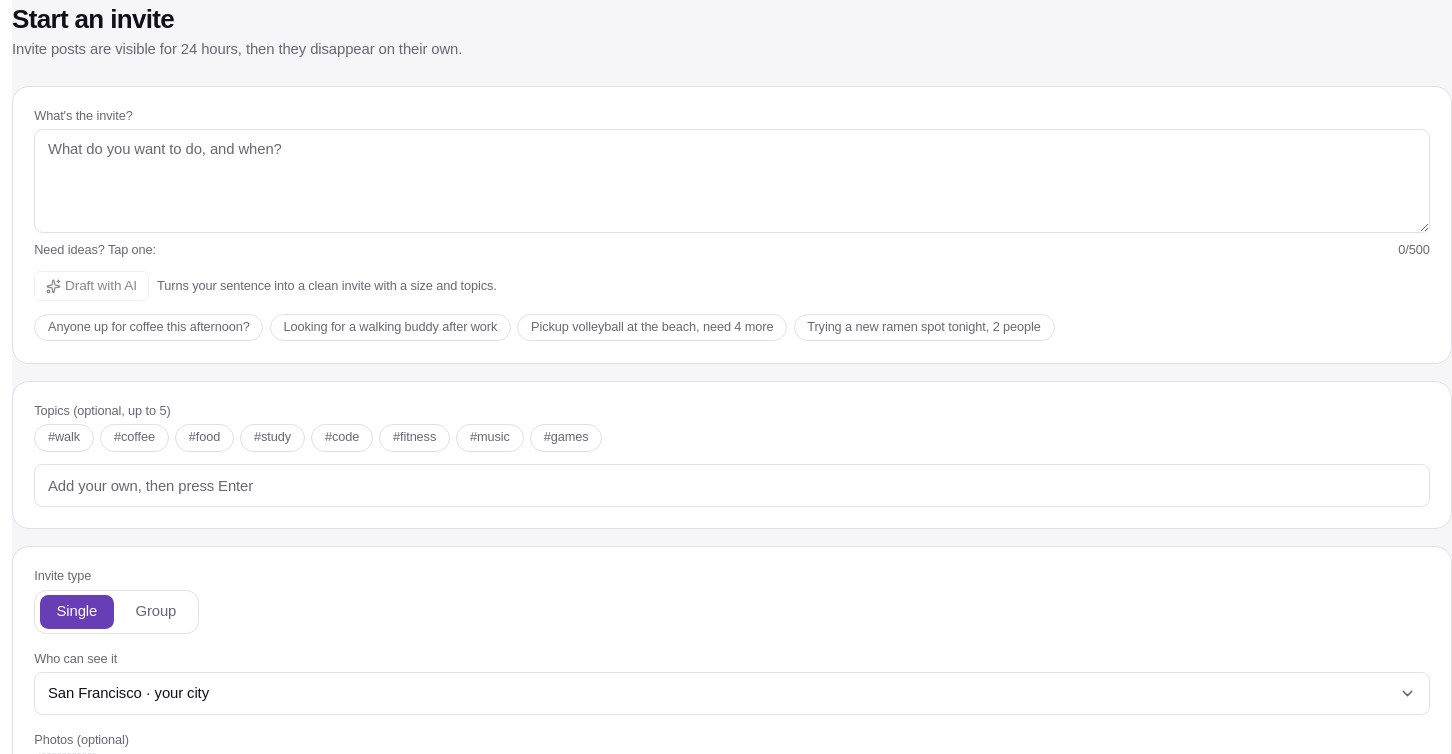
Test: NewPostPage › names the audience after the poster's place and hides State when there is none
The width and height of the screenshot is (1452, 754).
Click the dropdown named "Who can see it" at (128,693), box [34, 672, 1430, 715]
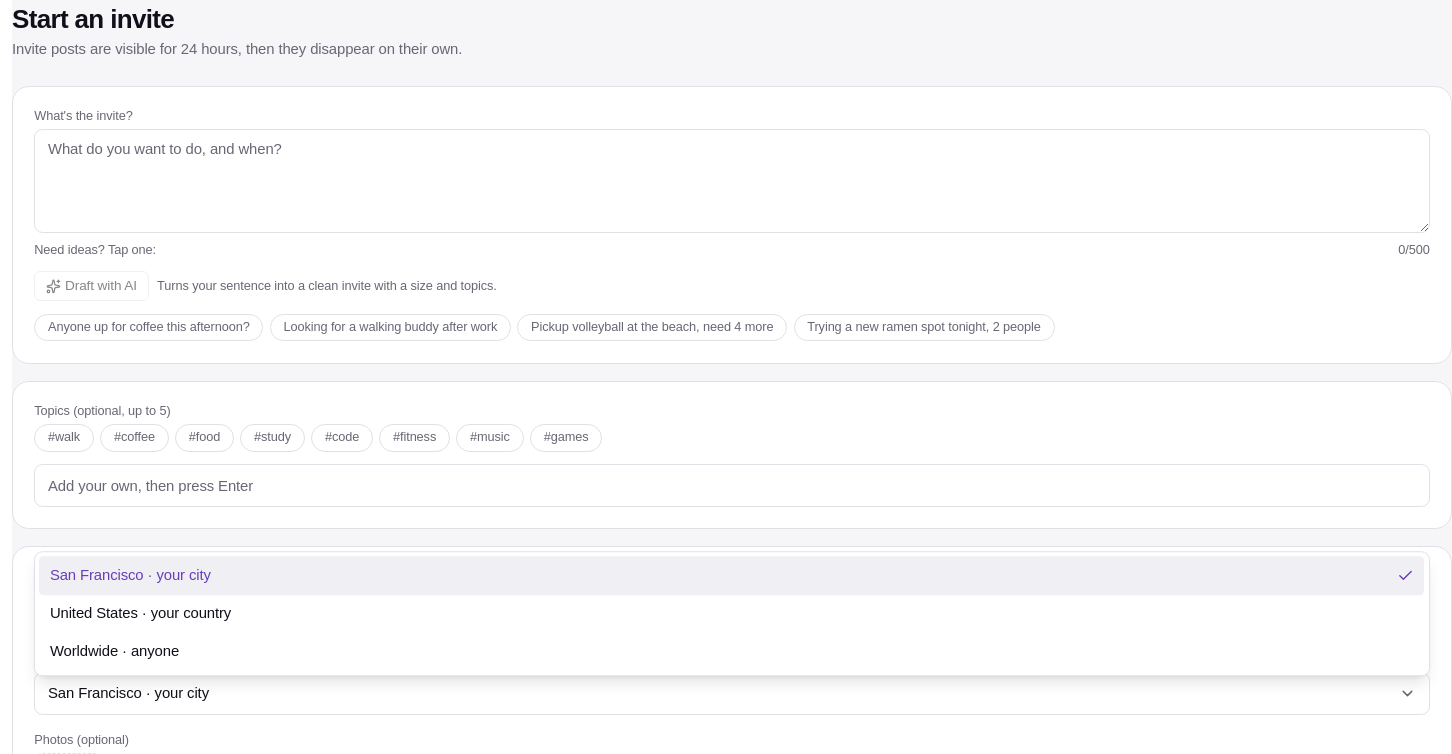
Expected: the option "San Francisco · your city" is shown, [39, 556, 1424, 595]
Expected: the option "United States · your country" is shown, [50, 605, 231, 621]
Expected: the option "Worldwide · anyone" is shown, [50, 644, 179, 660]
